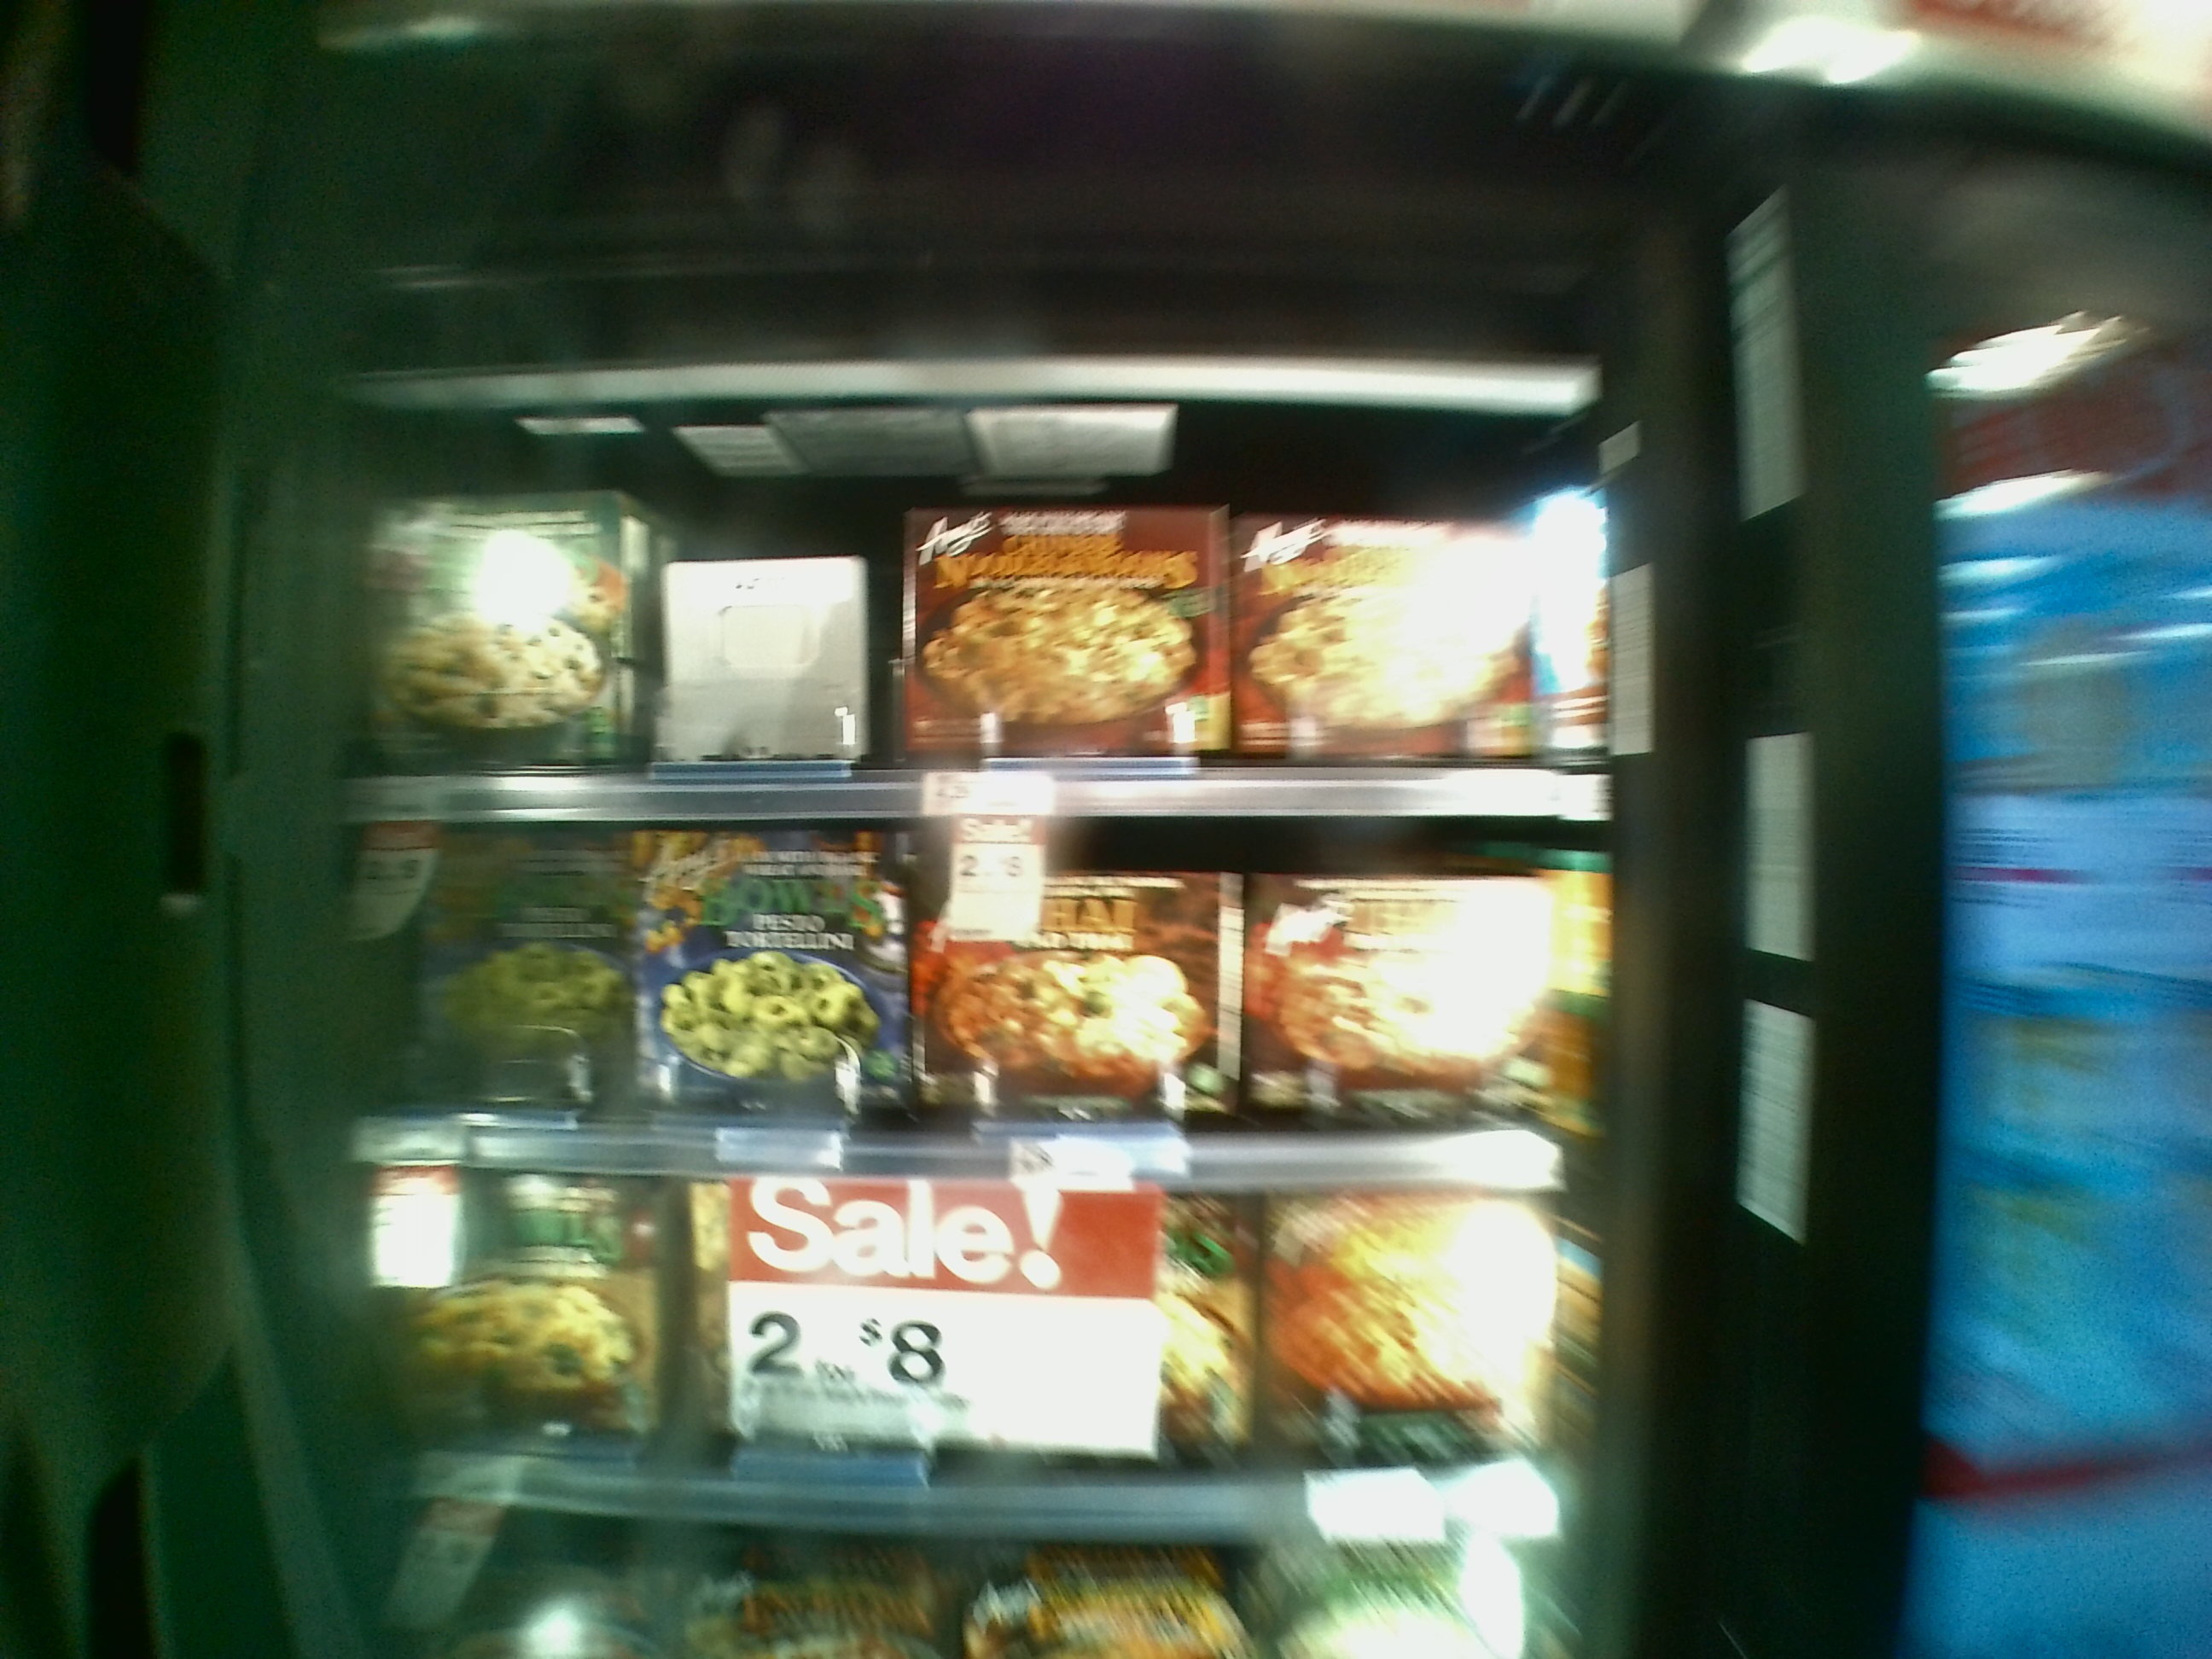shelf: (338, 406, 1625, 826), (340, 824, 1588, 1188), (362, 1168, 1566, 1542)
